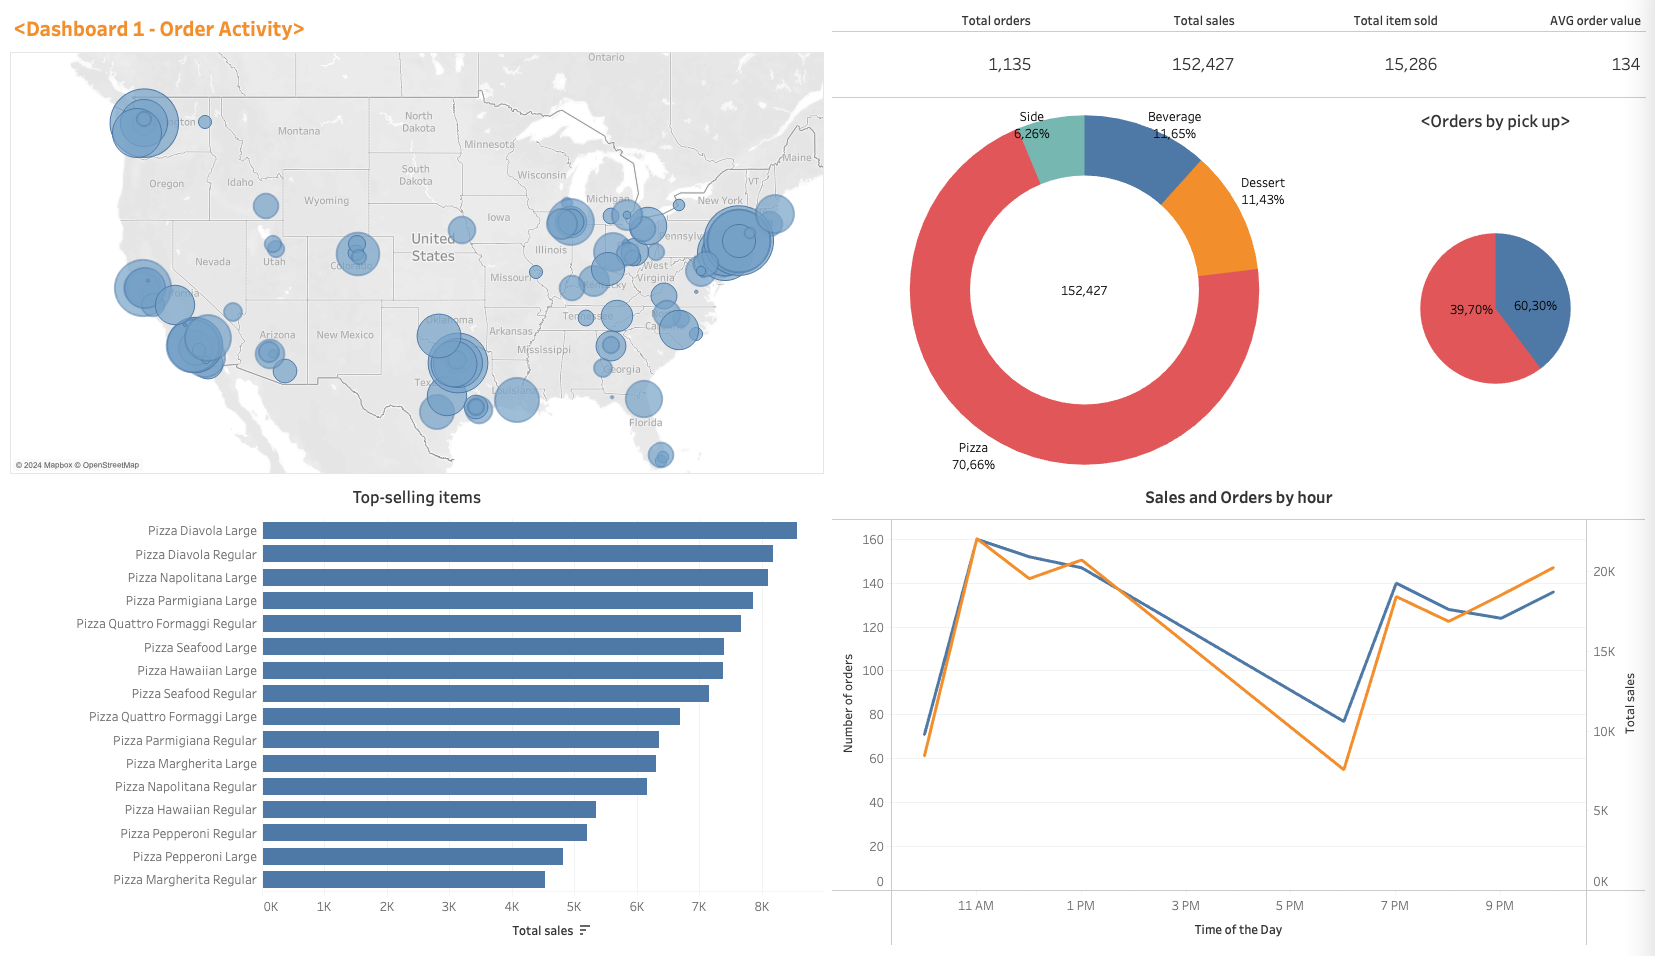

The dashboard page shown, as its layout file describes it:
{"tool":"tableau","page":{"name":"Dashboard1","canvas":[1000,1000],"units":"permille","ordinal":1},"visuals":[{"type":"worksheet","title":"Orders by Address","mark":"Automatic","box":[4.8,8.3,495.2,491.7]},{"type":"worksheet","title":"Total Order activity","mark":"Automatic","box":[500,8.3,495.2,100]},{"type":"worksheet","title":"Sales by Caterogy","mark":"Pie","rows":["Calculation_104145756073177095","Calculation_104145756073177095"],"box":[500,108.3,308.9,391.7]},{"type":"worksheet","title":"Orders by pick up","mark":"Pie","box":[808.9,108.3,186.3,391.7]},{"type":"worksheet","title":"Top-selling items","mark":"Automatic","rows":["item_name"],"cols":["Calculation_104145756058537985"],"box":[4.8,500,495.2,491.7]},{"type":"worksheet","title":"Sales and Orders by hour","mark":"Automatic","rows":["Calculation_104145756058107904","Calculation_104145756058537985"],"cols":["created_at"],"box":[500,500,495.2,491.7]}]}

Visuals, with their boxes on the dashboard's canvas, which has no fixed pixel size, in thousandths of its width and height (x1, y1, x2, y2). These are canvas units, not pixel positions in the 1655x956 screenshot, which may show the page scaled, cropped or inside an application window:
"Orders by Address" worksheet: BBox(5, 8, 500, 500)
"Total Order activity" worksheet: BBox(500, 8, 995, 108)
"Sales by Caterogy" worksheet (Pie marks): BBox(500, 108, 809, 500)
"Orders by pick up" worksheet (Pie marks): BBox(809, 108, 995, 500)
"Top-selling items" worksheet: BBox(5, 500, 500, 992)
"Sales and Orders by hour" worksheet: BBox(500, 500, 995, 992)
